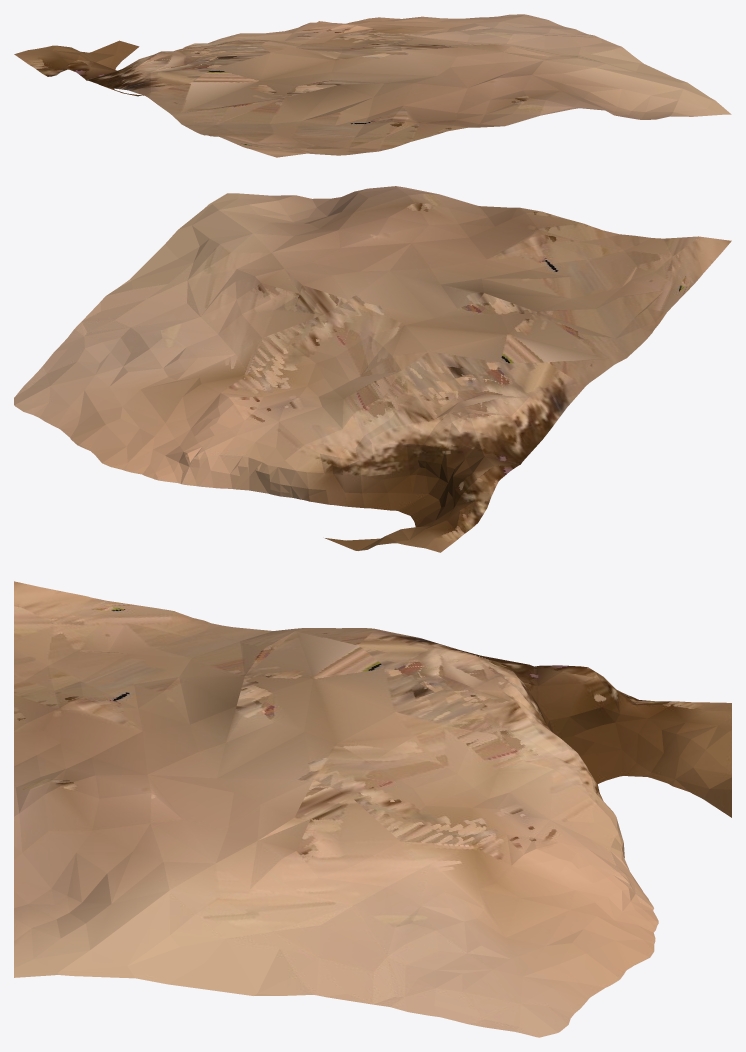
3 renders of one model, top to bottom at view 1: azimuth 30°, elevation 25°; view 2: azimuth 150°, elevation 25°; view 3: azimuth 270°, elevation 25°, orthographic. The views are drawn at different scales.
Size of the model in its own units: 1.04 by 0.2455 by 1.04.
Materials: 2 (2 with a texture image).
